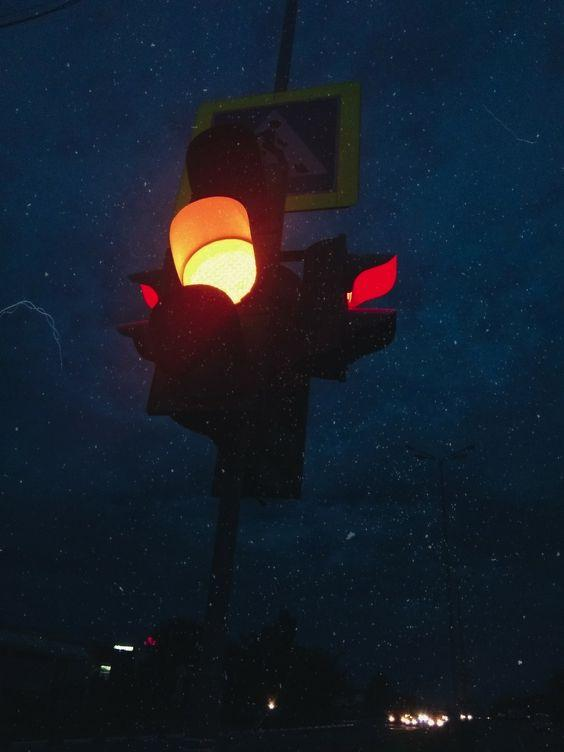red: (146, 102, 304, 388)
